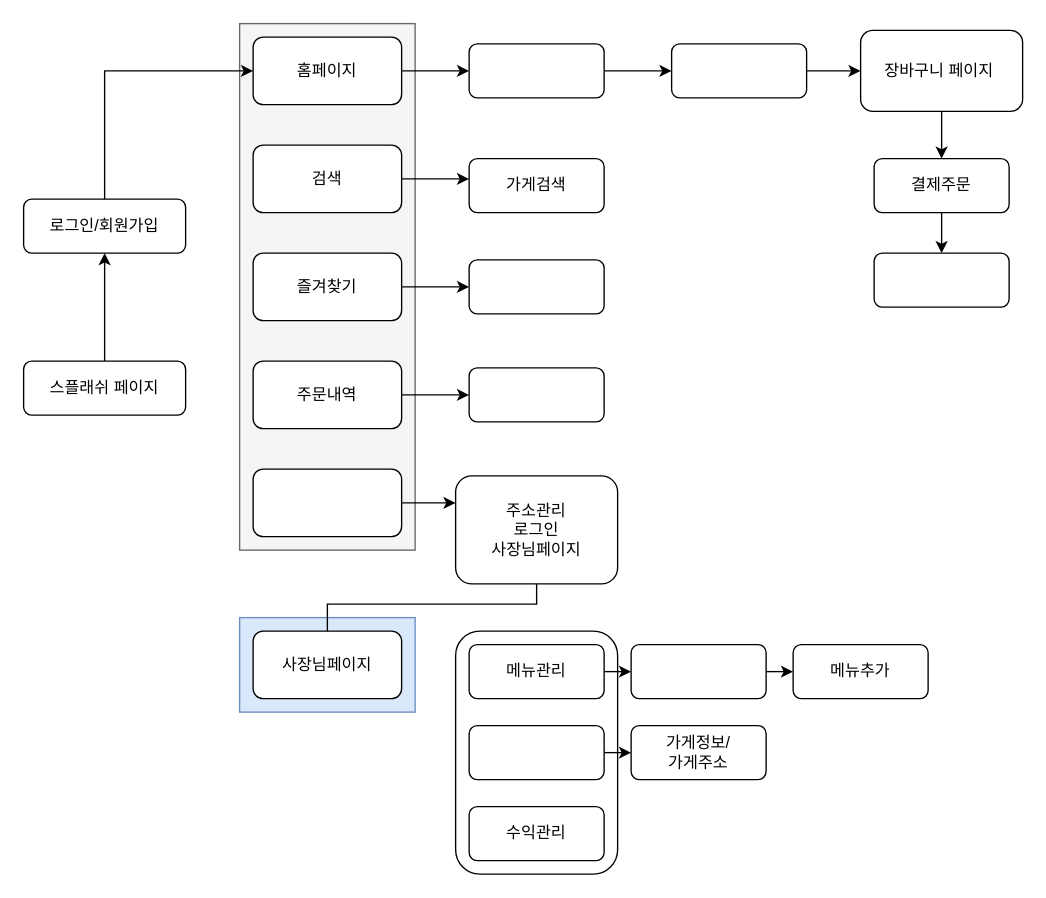
Some shapes in this 1046 by 898 pixel diagram are drawn without their labels. The shapes that lost their labels are listed below. From the top down, each one's box as (x1, y1, x2, y2) in pixels, then its label:
(468, 43, 604, 98): 가게페이지 (메뉴선택)
(670, 43, 807, 98): 메뉴수량선택
(468, 259, 604, 314): 즐찾 가게표시
(873, 252, 1009, 307): 배달
(468, 367, 604, 422): 주문한가게 표시
(252, 468, 402, 537): My 이츠
(630, 643, 766, 699): 카테고리 추가
(468, 724, 604, 780): 가게설정
